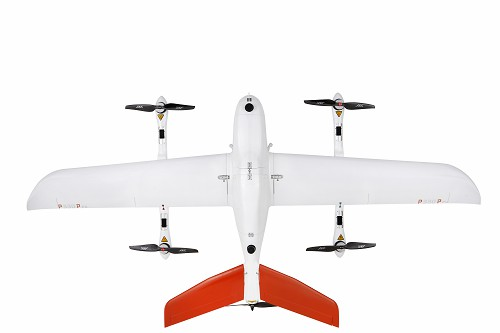maybay_khongnguoilai: (29, 96, 478, 333)
